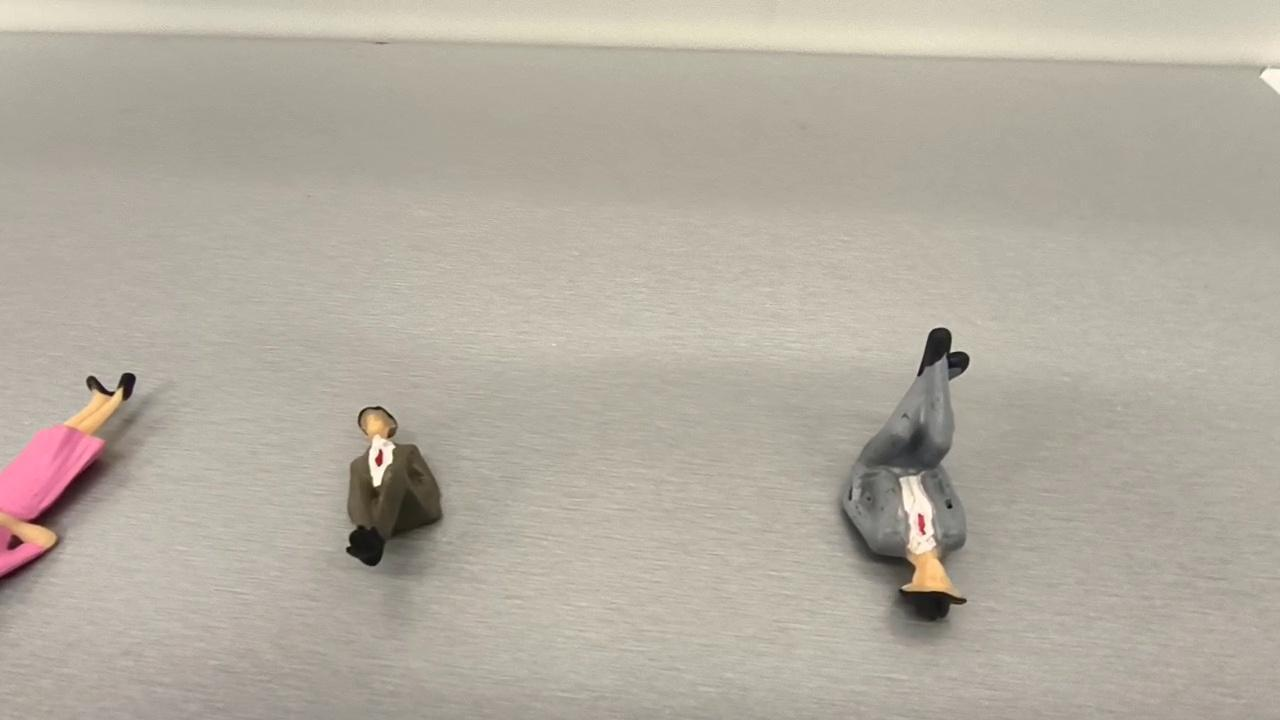human: (810, 315, 996, 637), (333, 390, 458, 584)
